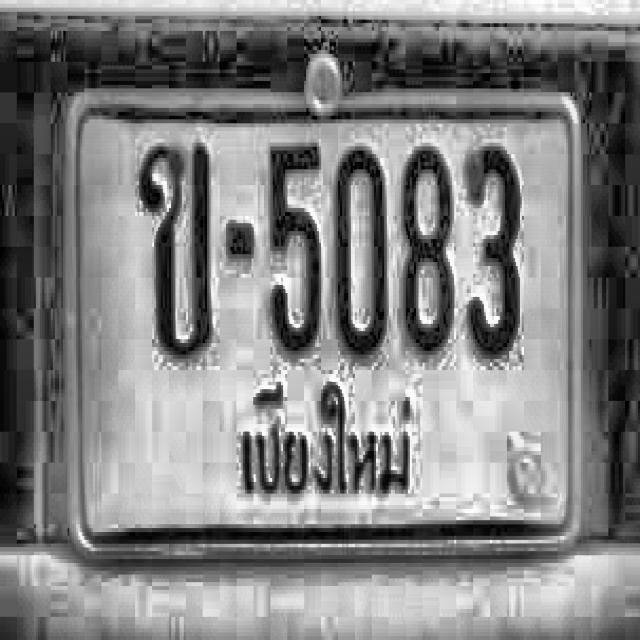license-plate: (52, 62, 594, 576)
